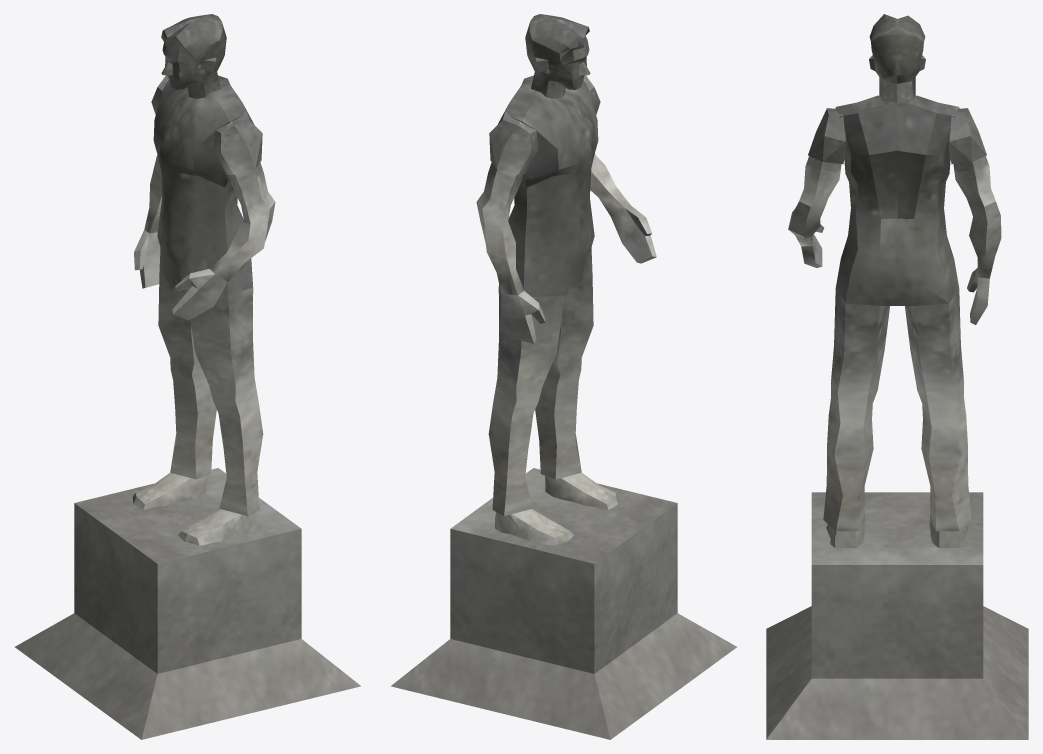
The model's file is Monument.fbx.
3 renders of one model, left to right at view 1: azimuth 30°, elevation 25°; view 2: azimuth 150°, elevation 25°; view 3: azimuth 270°, elevation 25°, orthographic. The views are drawn at different scales.
Visible parts, largest first — view 1: Monument; view 2: Monument; view 3: Monument.
Boxes of the visible parts, bbox=[...] form: Monument: bbox=[15, 14, 360, 739]; Monument: bbox=[391, 14, 736, 739]; Monument: bbox=[766, 14, 1028, 739].
Size of the model in its own units: 305 by 305 by 857.
